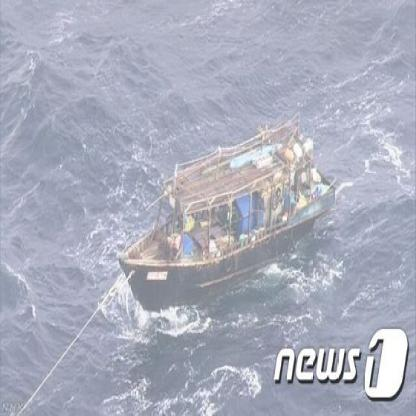fish-b: (110, 102, 340, 320)
